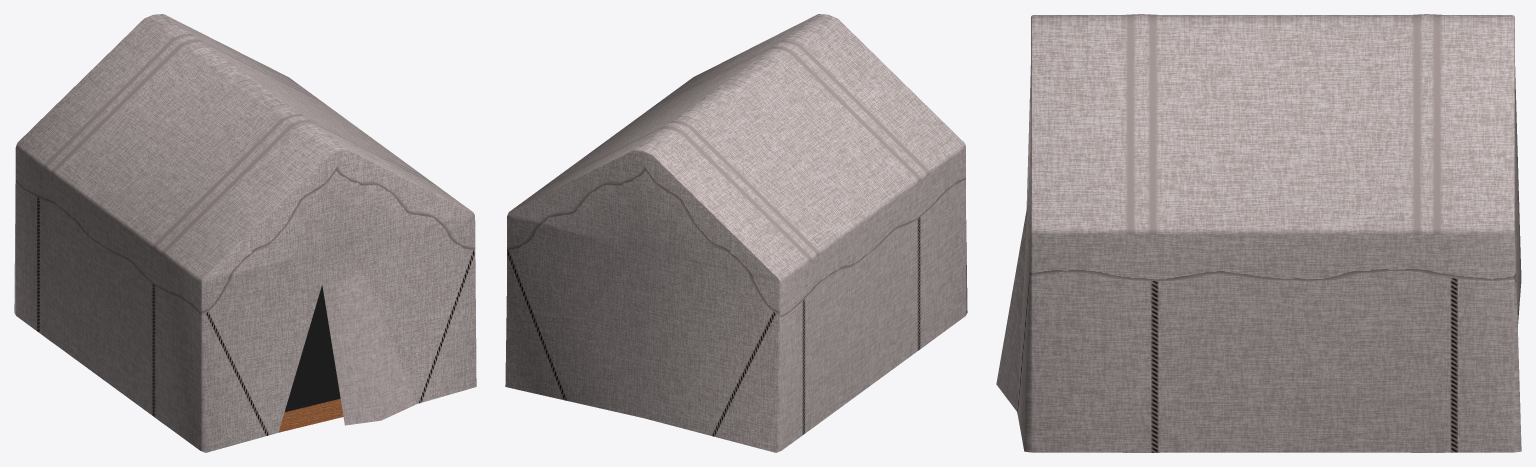
The model's file is Tent.FBX.
3 views of the same model, side by side, from view 1: azimuth 30°, elevation 25°; view 2: azimuth 150°, elevation 25°; view 3: azimuth 270°, elevation 25° (orthographic). The views are drawn at different scales.
Visible parts, largest first — view 1: Tent; view 2: Tent; view 3: Tent.
Part boxes in pixels (x1=…): Tent: x1=14, y1=14, x2=476, y2=452; Tent: x1=505, y1=14, x2=967, y2=452; Tent: x1=996, y1=14, x2=1521, y2=452.
Bounding box in the file's own units: 204 × 191 × 260.
